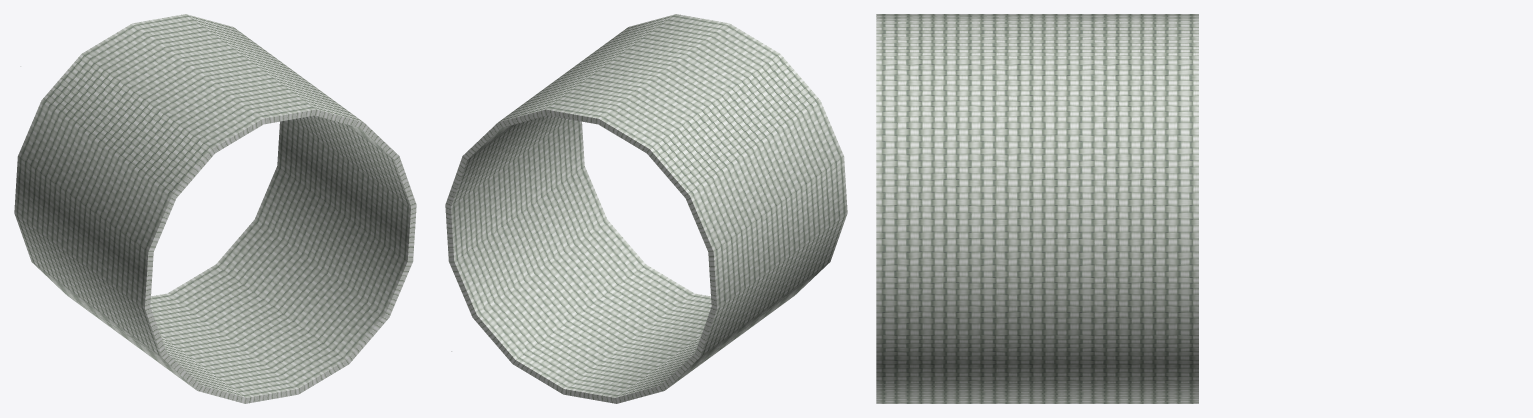
The model's file is MeshDeskLamp_6_0_GeomSubset_2.obj.
3 renders of one model, left to right at view 1: azimuth 30°, elevation 25°; view 2: azimuth 150°, elevation 25°; view 3: azimuth 270°, elevation 25°, orthographic. The views are drawn at different scales.
Parts seen in each view (by area): view 1: MeshDeskLamp_6_0_GeomSubset_2; view 2: MeshDeskLamp_6_0_GeomSubset_2; view 3: MeshDeskLamp_6_0_GeomSubset_2.
Boxes of the visible parts, left/top/right/bottom form: MeshDeskLamp_6_0_GeomSubset_2: left=14, top=14, right=416, bottom=403; MeshDeskLamp_6_0_GeomSubset_2: left=445, top=14, right=847, bottom=403; MeshDeskLamp_6_0_GeomSubset_2: left=876, top=14, right=1198, bottom=403.
Size of the model in its own units: 0.485 by 0.485 by 0.803.
